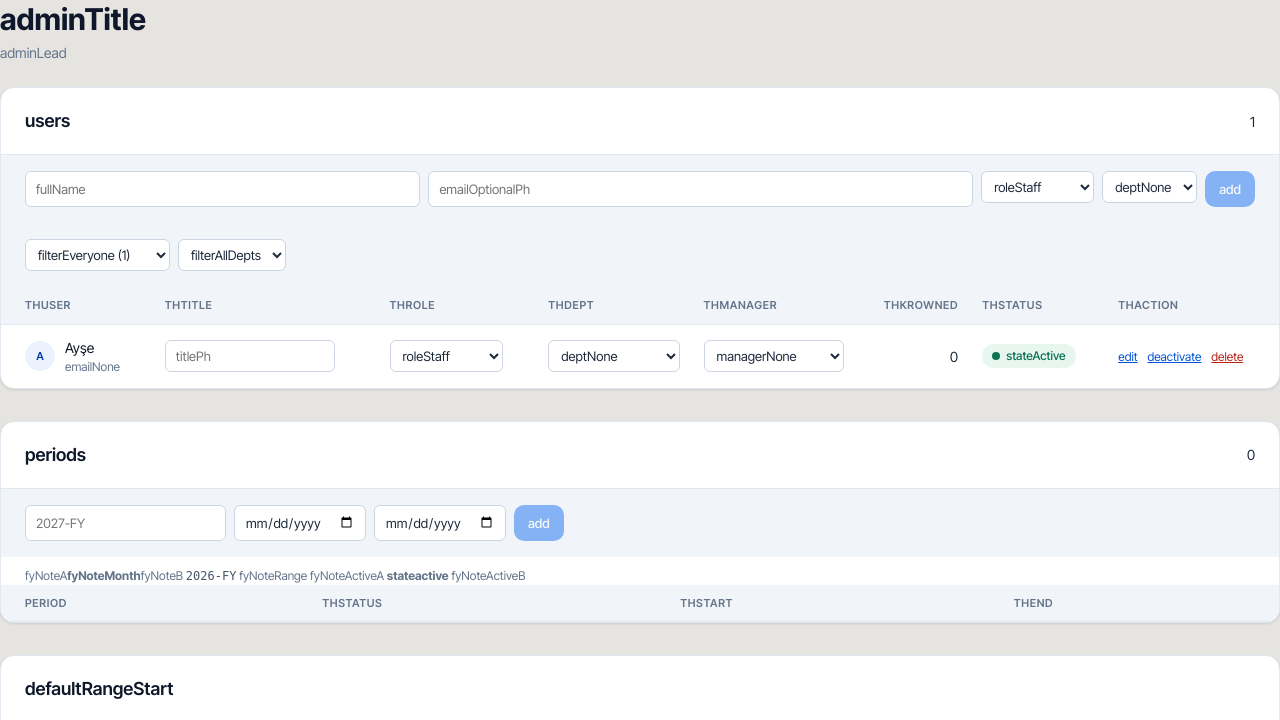
Scenario: while a generated password is on screen the Edit buttons stay disabled, so it cannot be lost
Step 1. Click the button "edit" → (1128, 356), box 1118,346 -> 1138,366
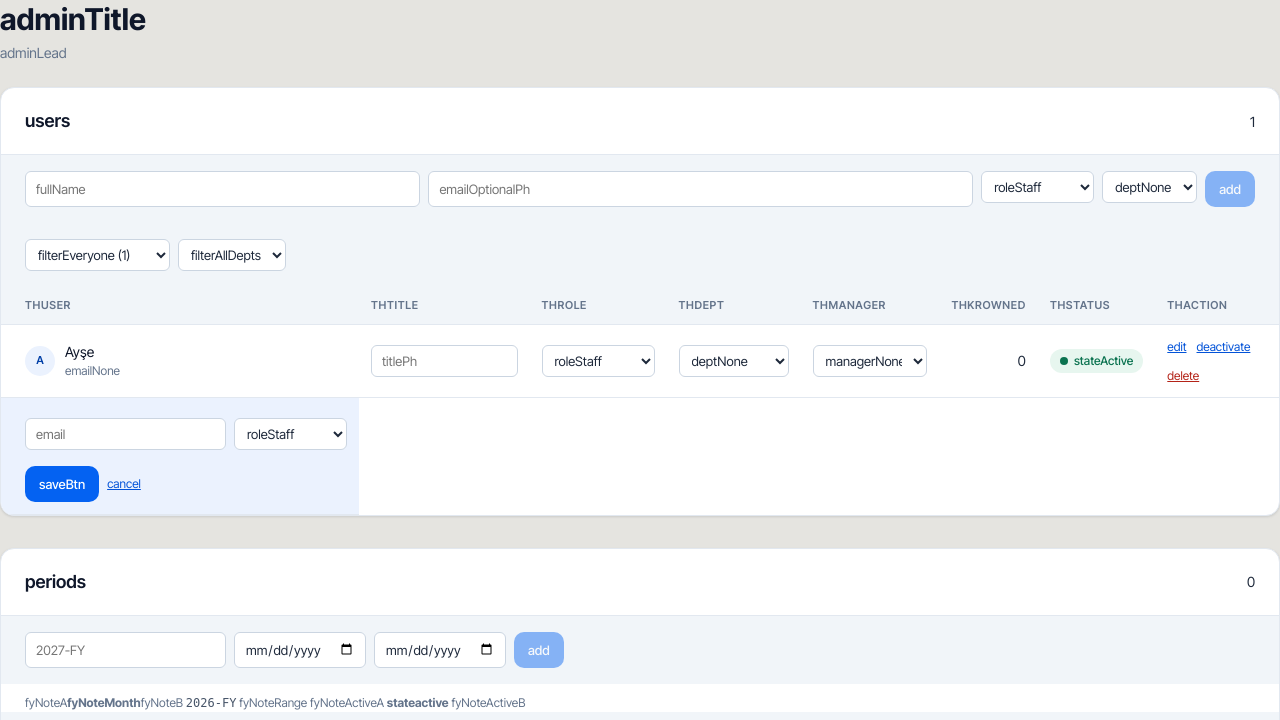
Step 2. Select "roleExecutive" in the dropdown named "thRole" below "emailNone" → (290, 434), box 234,418 -> 347,450
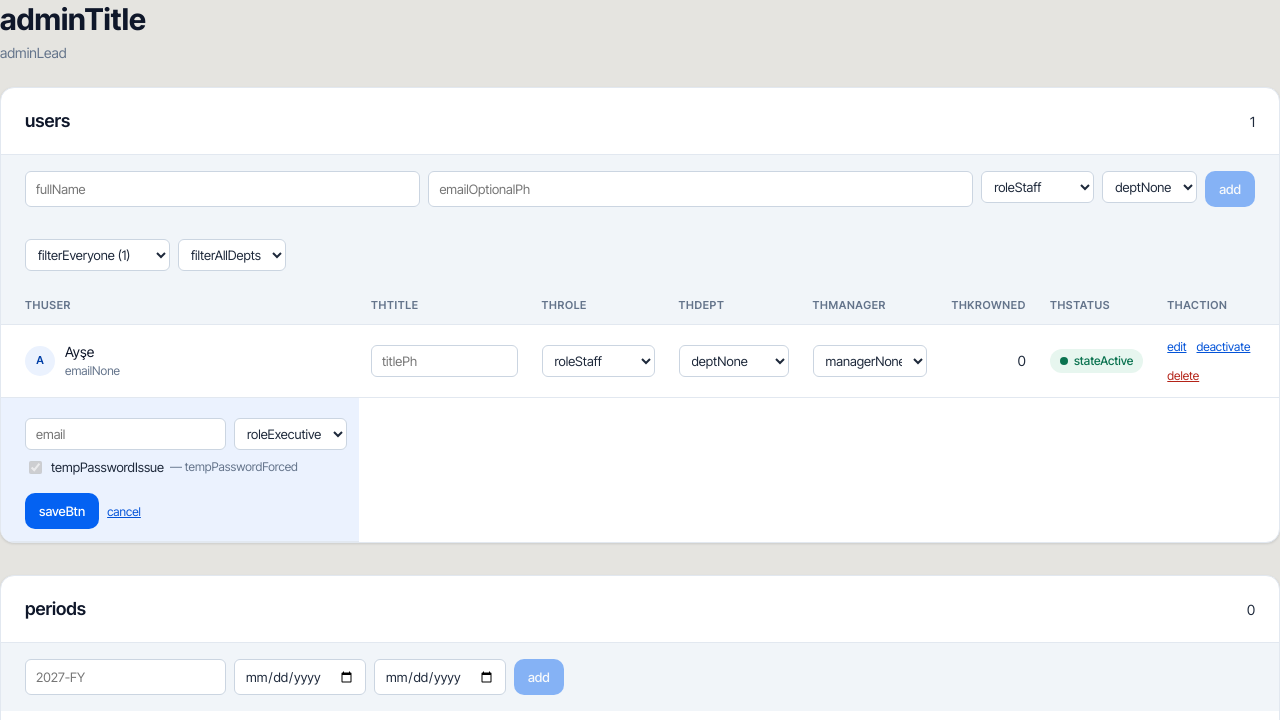
Step 3. Type "ayse@nove.group" into the field labelled "email" → (126, 434), box 25,418 -> 226,450
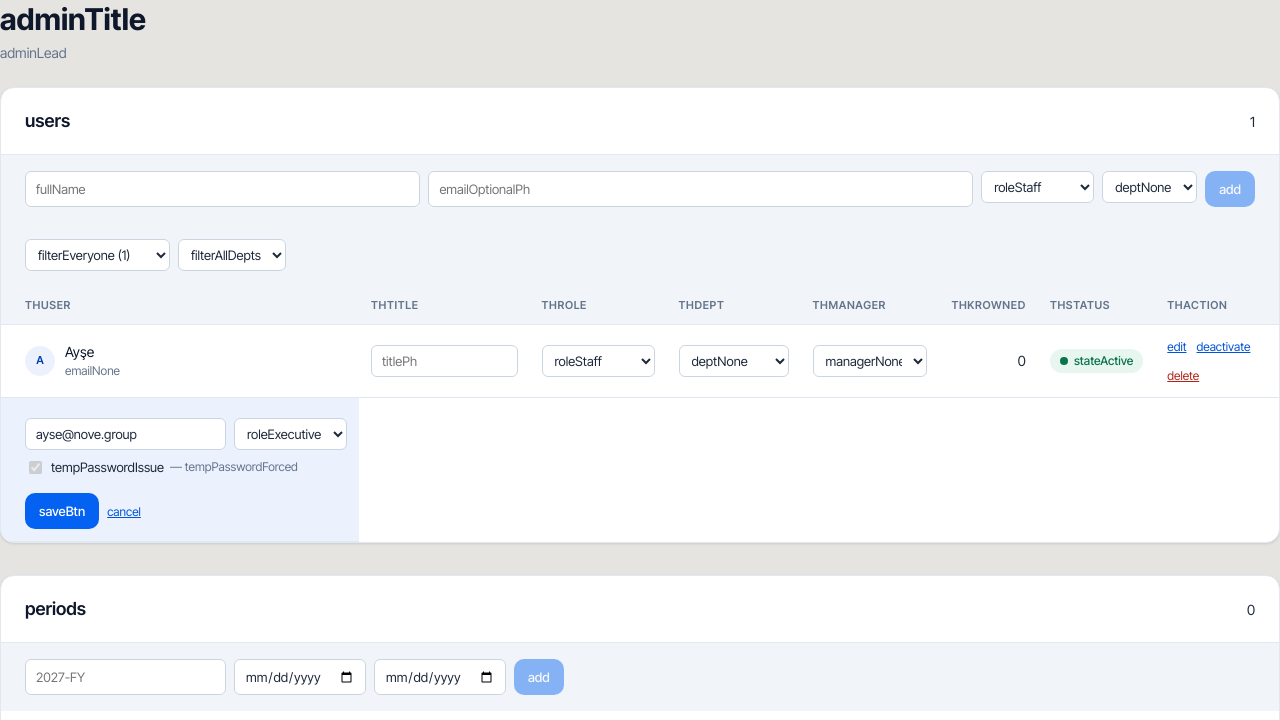
Step 4. Click the button "saveBtn" → (62, 511), box 25,493 -> 99,529
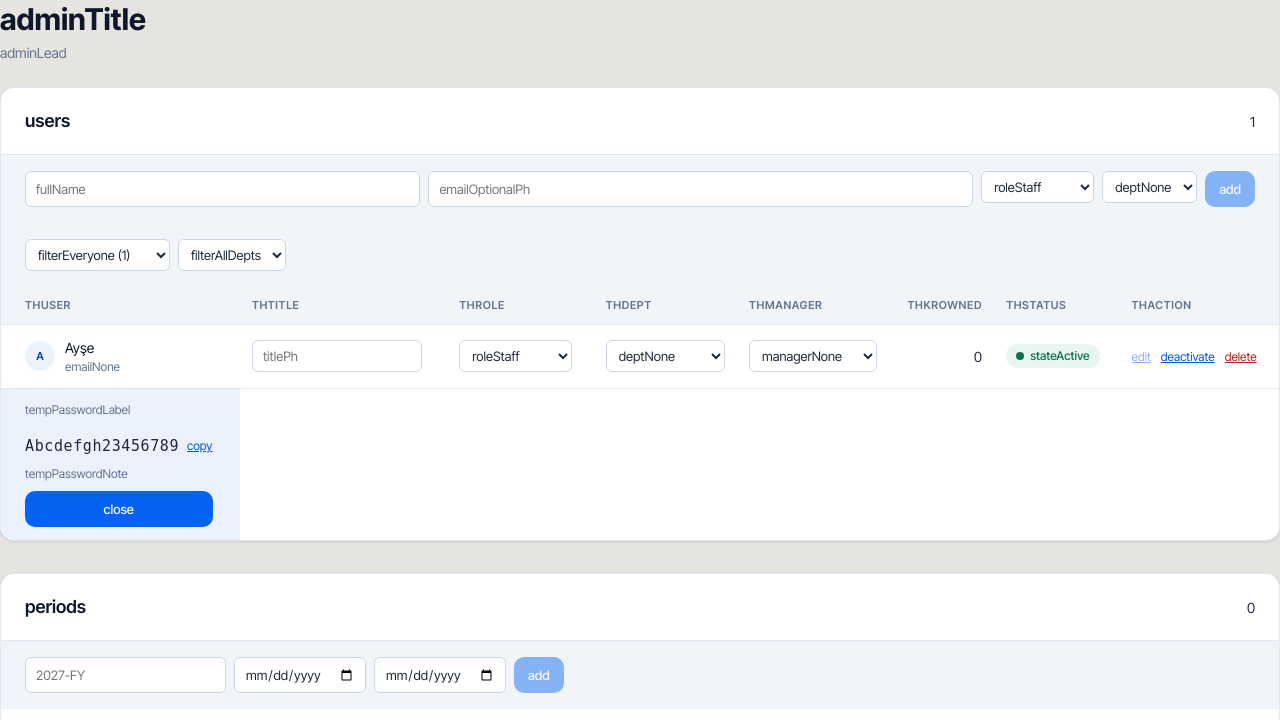
Now the text "Abcdefgh23456789" is shown, box 25,434 -> 179,457
Now the button "edit" is disabled, box 1132,346 -> 1151,366
Step 5. Click the button "close" → (119, 509), box 25,491 -> 212,527
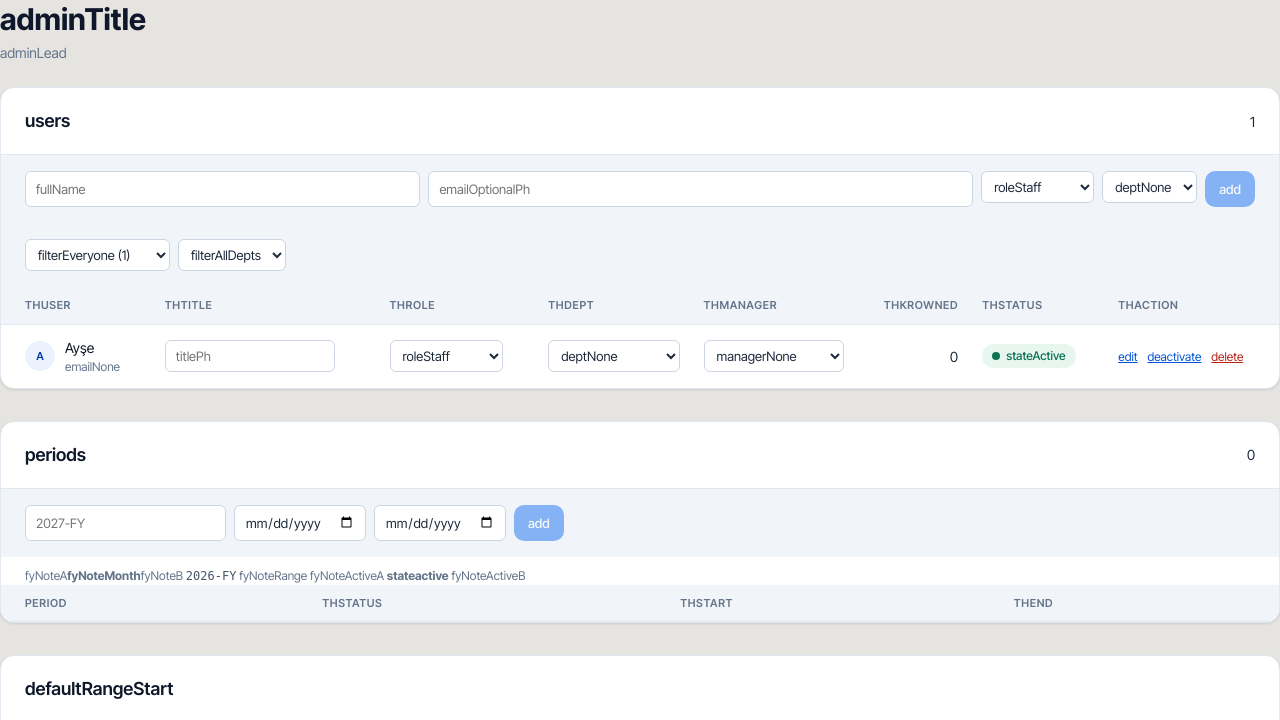
Now the button "edit" is enabled, box 1118,346 -> 1138,366
